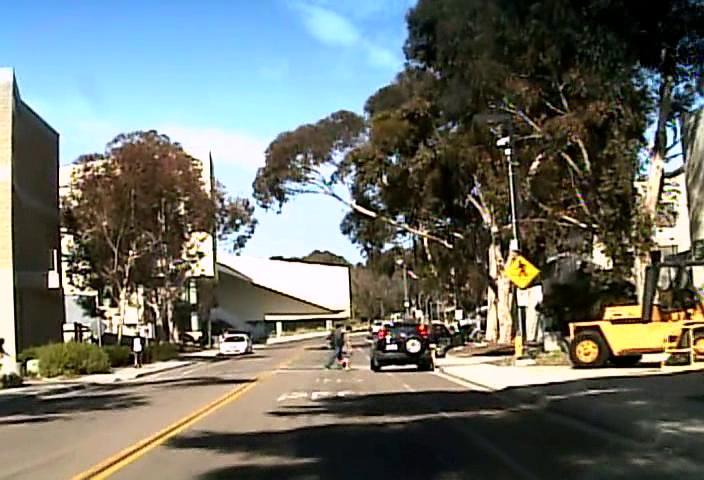pedestrianCrossing: (502, 254, 539, 287)
